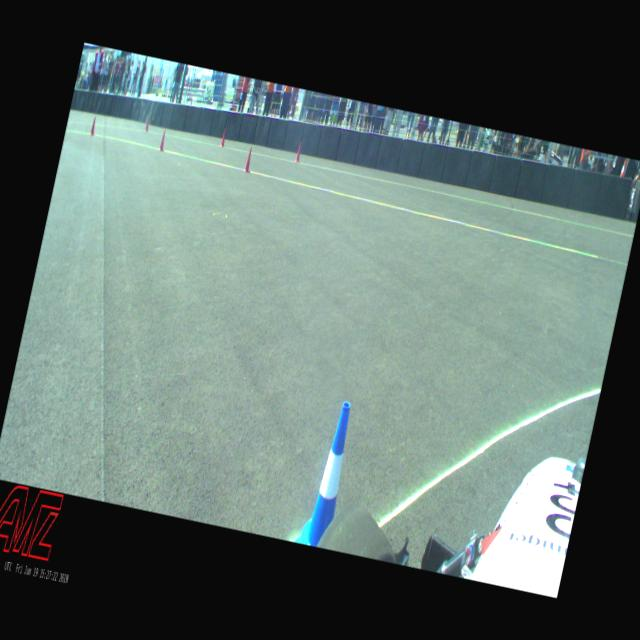blue_cone: (294, 396, 358, 549)
unknown_cone: (242, 147, 254, 174), (294, 140, 304, 162), (218, 128, 228, 148), (88, 116, 97, 136), (158, 129, 166, 151), (144, 115, 150, 132)
